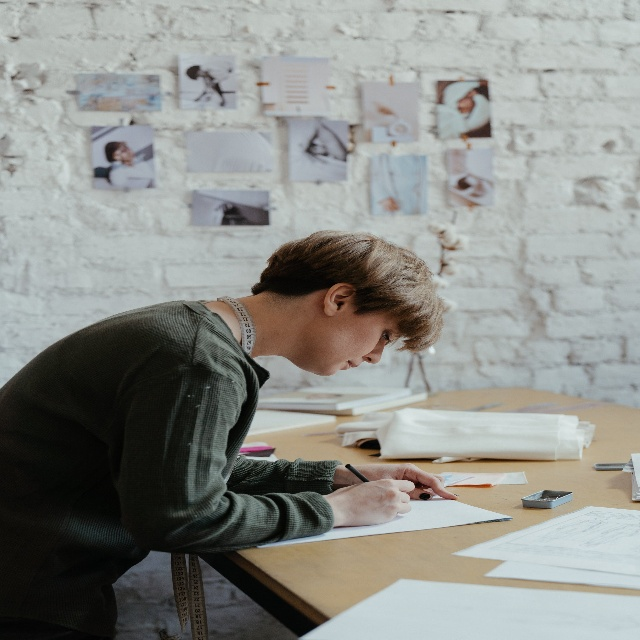Sin_guantes: (348, 464, 459, 502), (333, 478, 415, 528)
